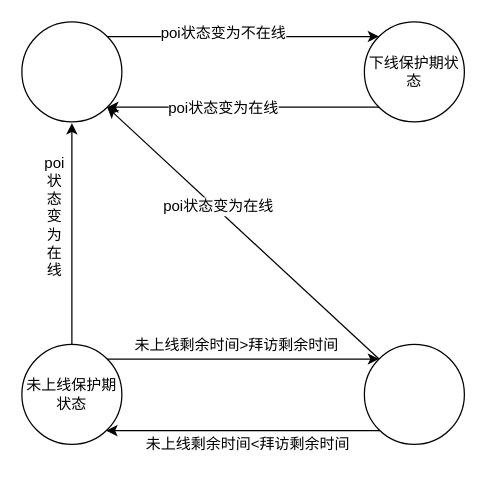
The diagram is 486 pixels wide and 479 high, and some of its shapes have lost their labels. Each missing label, with the centre of its shape:
"在线保护期状态" goes at (x=71, y=71).
"拜访保护期状态" goes at (x=413, y=393).
